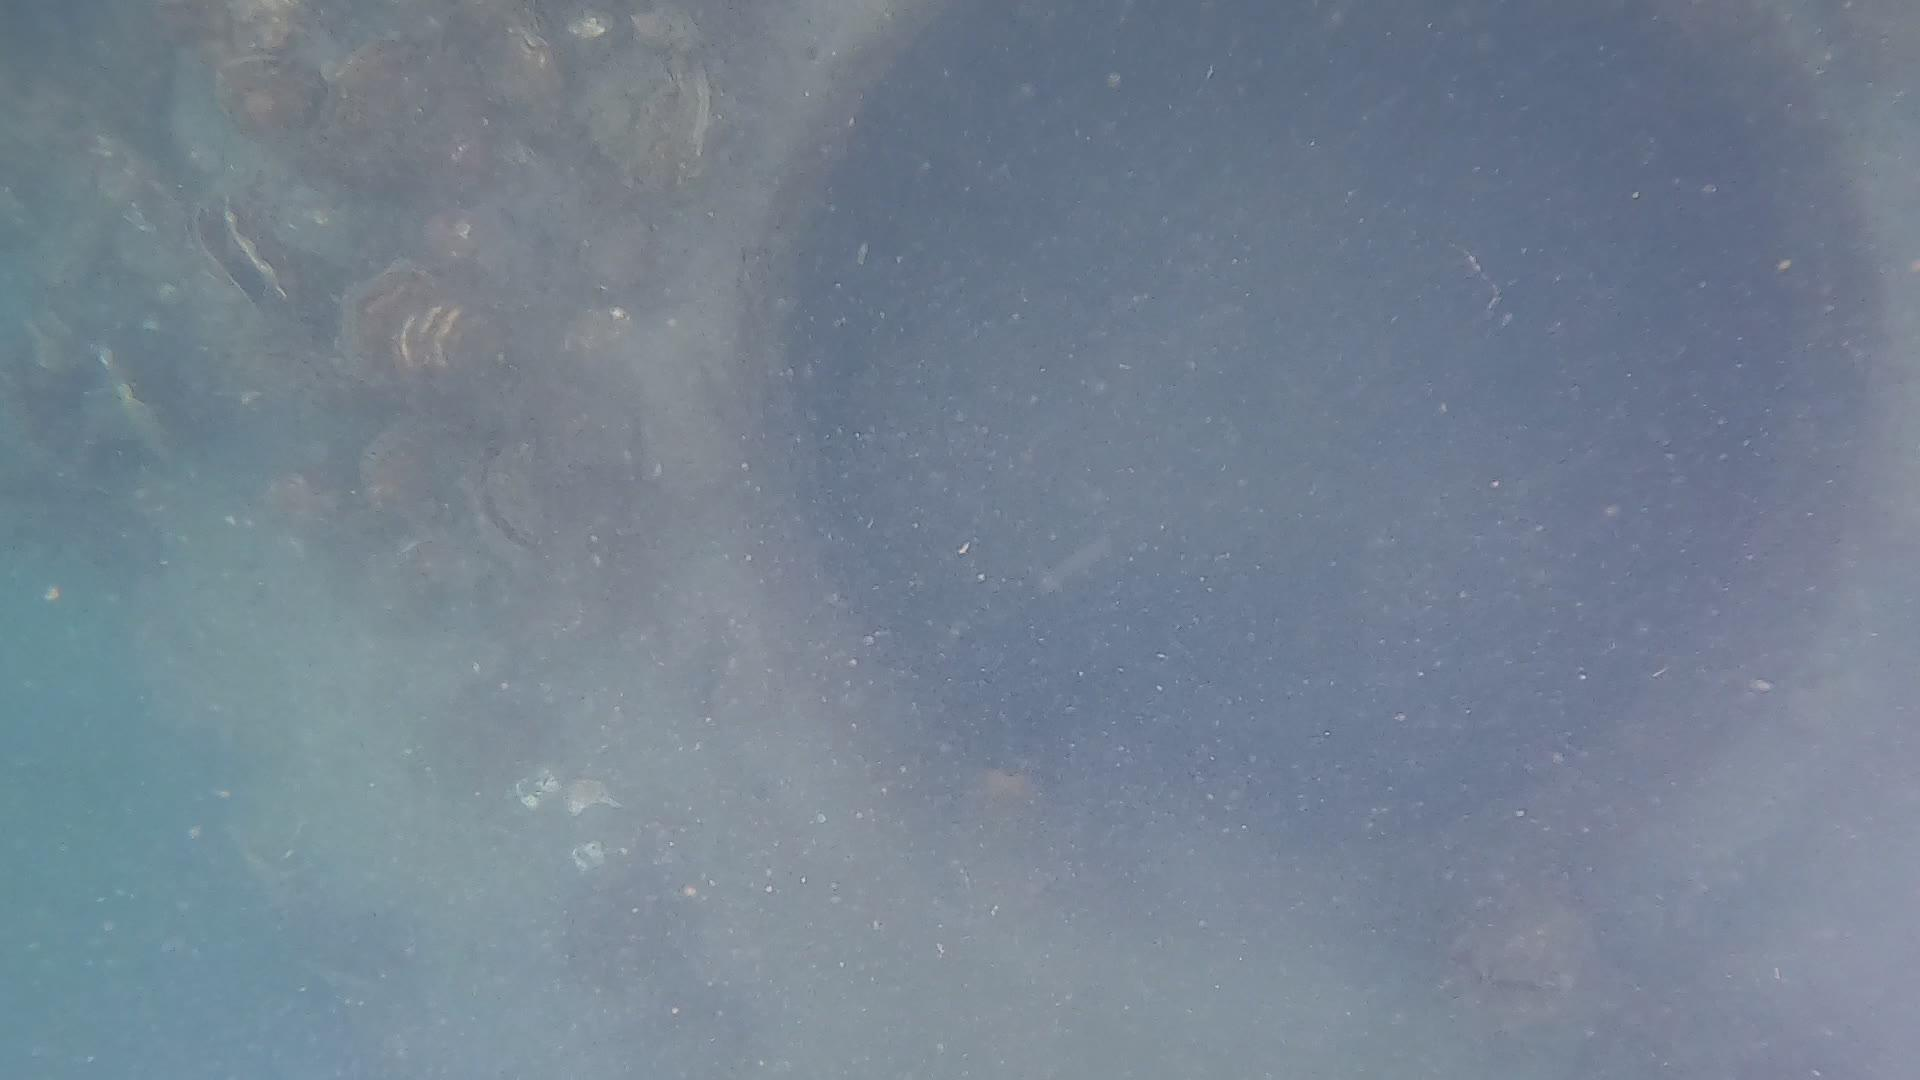tire: (128, 0, 1920, 1080)
